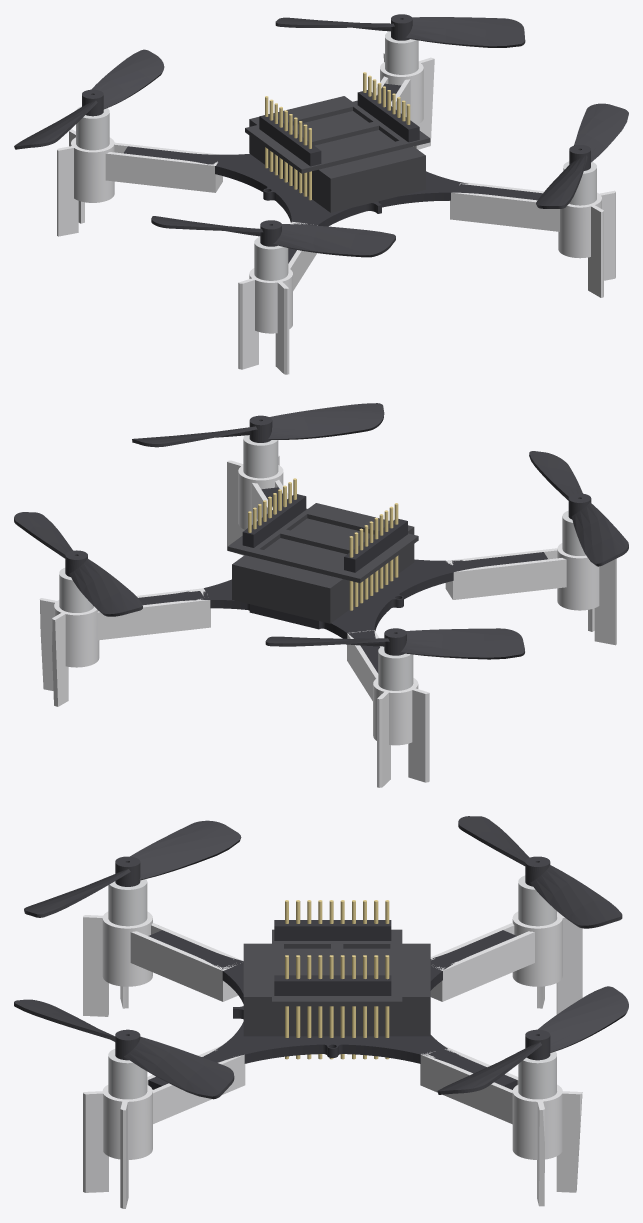
Rendered from crazyflie_2.glb.
3 views of the same model, one above another, from view 1: azimuth 30°, elevation 25°; view 2: azimuth 150°, elevation 25°; view 3: azimuth 270°, elevation 25° (orthographic). The views are drawn at different scales.
Visible parts, largest first — view 1: Mounts_Battery, Frame_PCB, BatteryClip_Pins, RotorFL, RotorRR, Motors, RotorFR, Connectors, RotorRL, GoldTraces_Antenna; view 2: Mounts_Battery, Frame_PCB, BatteryClip_Pins, RotorFR, RotorRL, Motors, Connectors, RotorFL, RotorRR, GoldTraces_Antenna; view 3: Mounts_Battery, Frame_PCB, BatteryClip_Pins, Motors, RotorRR, RotorRL, RotorFL, RotorFR, GoldTraces_Antenna, Connectors.
Part boxes in pixels (x1,y1,x2,y2): Mounts_Battery: (57,53,615,374); Frame_PCB: (124,83,542,263); BatteryClip_Pins: (249,96,425,212); RotorFL: (275,14,525,47); RotorRR: (151,216,395,257); Motors: (76,31,596,280); RotorFR: (14,49,164,149); Connectors: (245,100,430,173); RotorRL: (536,103,628,208); GoldTraces_Antenna: (265,72,410,200); Mounts_Battery: (40,455,616,787); Frame_PCB: (138,487,547,673); BatteryClip_Pins: (232,503,414,623); RotorFR: (265,628,524,659); RotorRL: (132,403,384,447); Motors: (59,435,585,690); Connectors: (227,508,418,582); RotorFL: (14,512,142,616); RotorRR: (529,451,628,566); GoldTraces_Antenna: (248,478,398,610); Mounts_Battery: (83,911,582,1208); Frame_PCB: (148,920,517,1089); BatteryClip_Pins: (243,943,430,1036); Motors: (108,875,556,1099); RotorRR: (24,820,241,917); RotorRL: (14,999,234,1099); RotorFL: (437,986,628,1094); RotorFR: (458,816,622,928); GoldTraces_Antenna: (285,900,389,1059); Connectors: (272,929,402,1006).
Size of the model in its own units: 0.1055 by 0.031 by 0.098.
